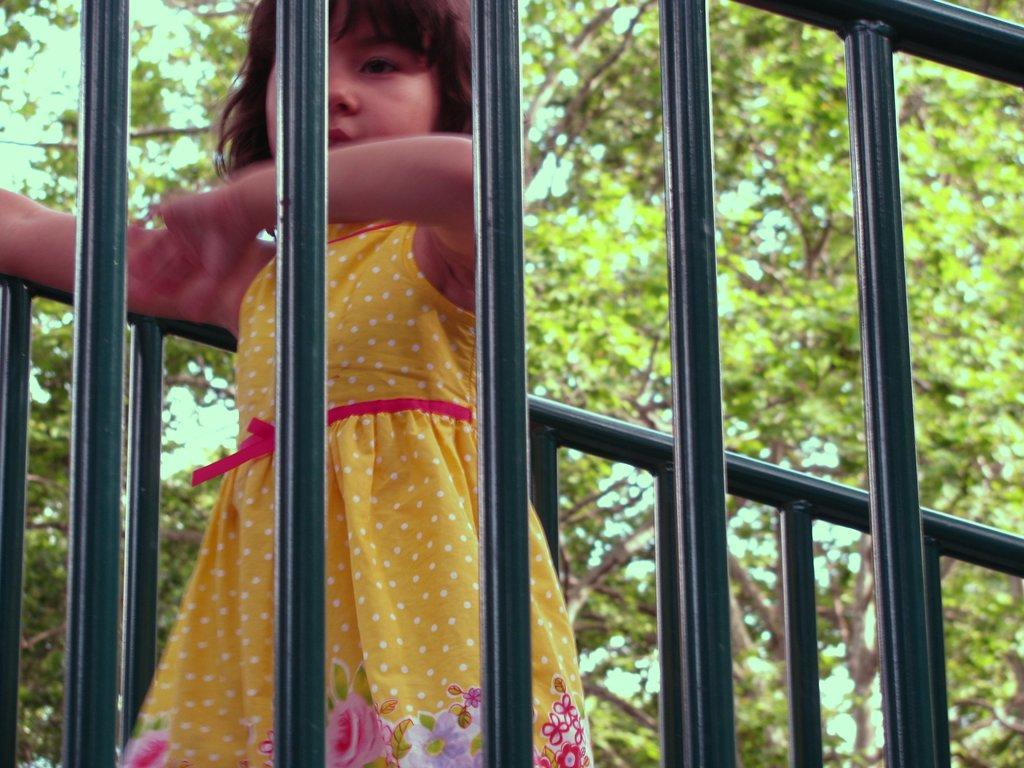Sem Máscara: (262, 0, 443, 159)
